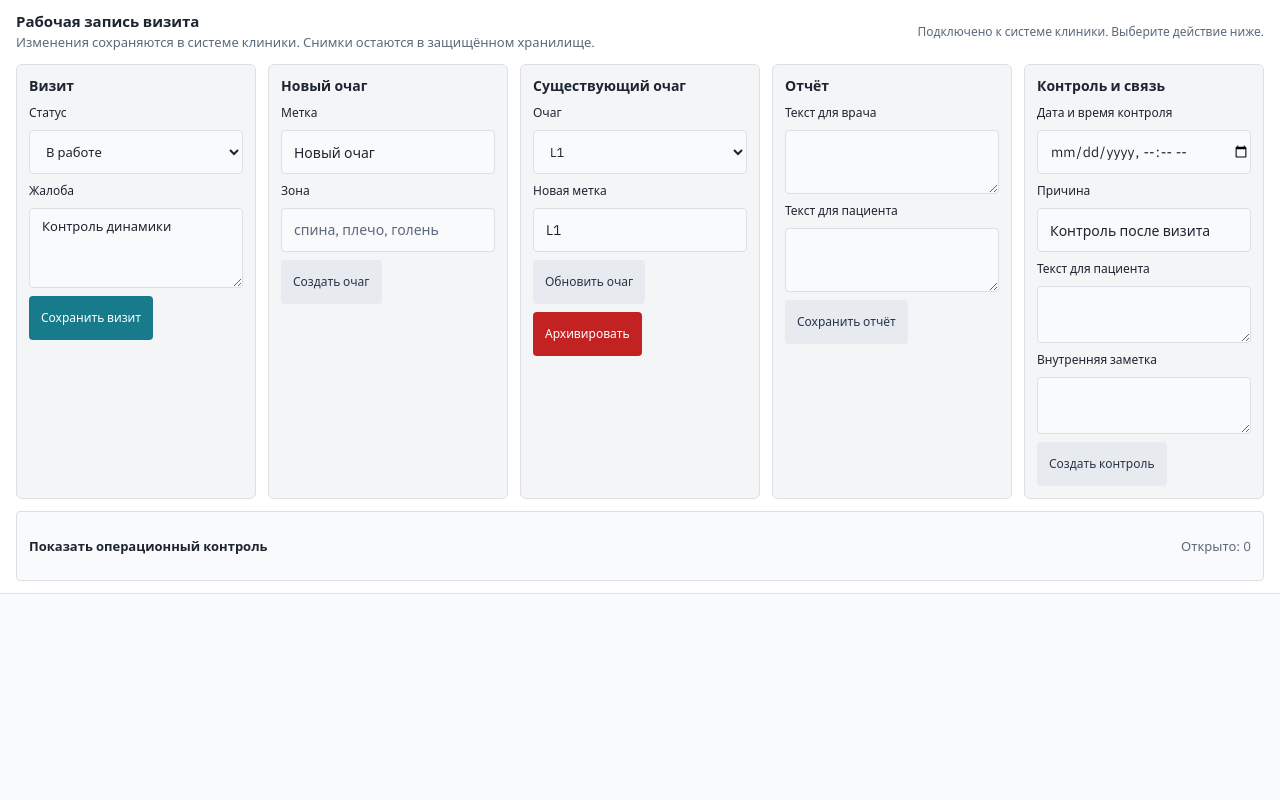
Test case: VisitWorkspaceLiveActions › saves visit, creates lesion, archives lesion, and saves report with bearer token
This screenshot has width=1280, height=800.
Click the button "Сохранить визит": (91, 318) [29,296,153,340]
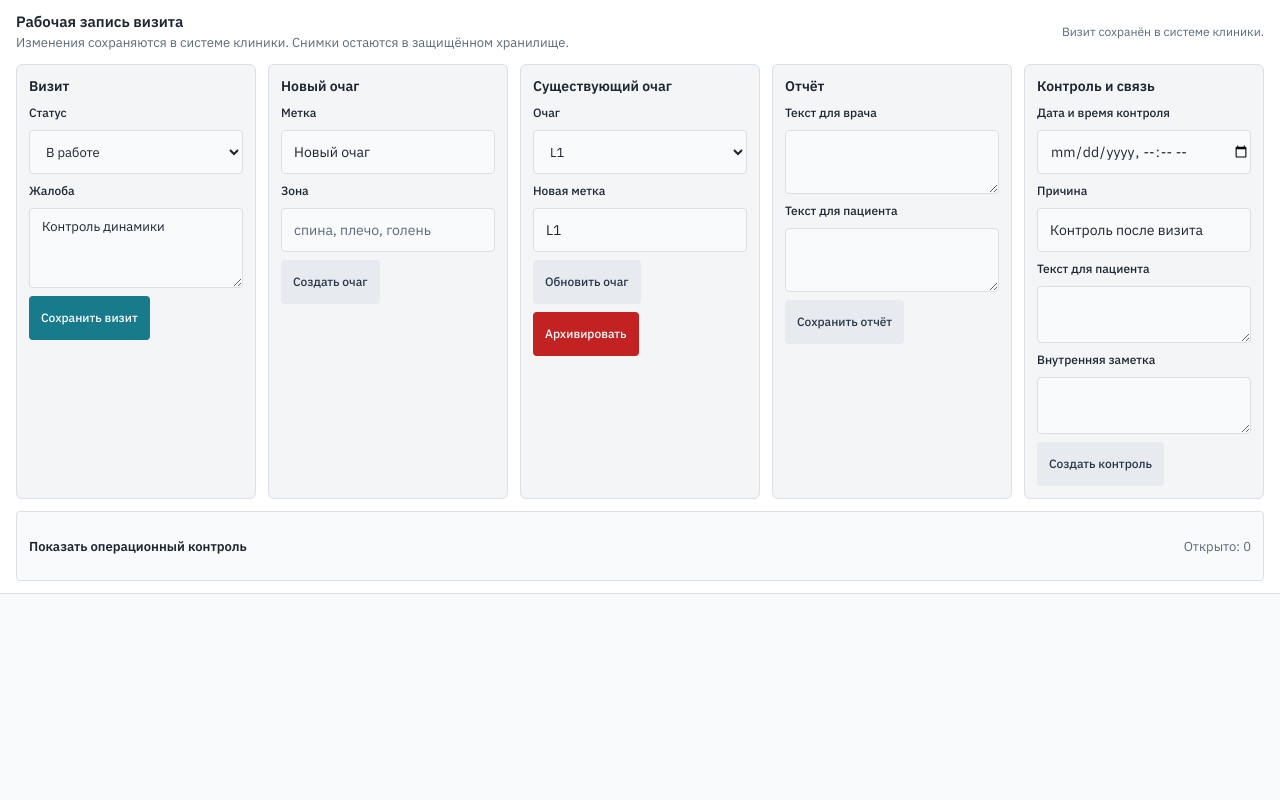
Expected: the text "Визит сохранён в системе клиники." is shown, [1062,23,1264,41]
Click the button "Создать очаг": (330, 282) [281,260,380,304]
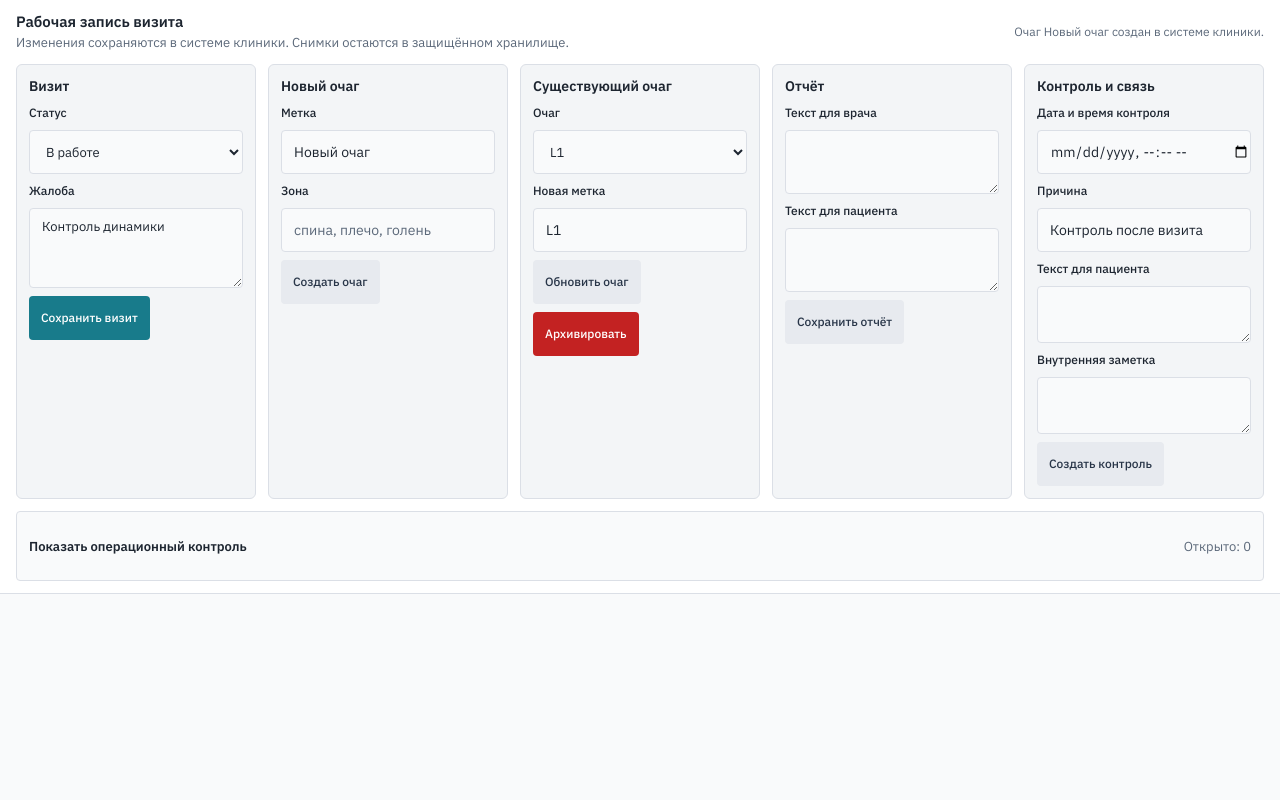
Expected: the text "Очаг Новый очаг создан в системе клиники." is shown, [1014,23,1264,41]
Click the button "Архивировать": (586, 334) [533,312,639,356]
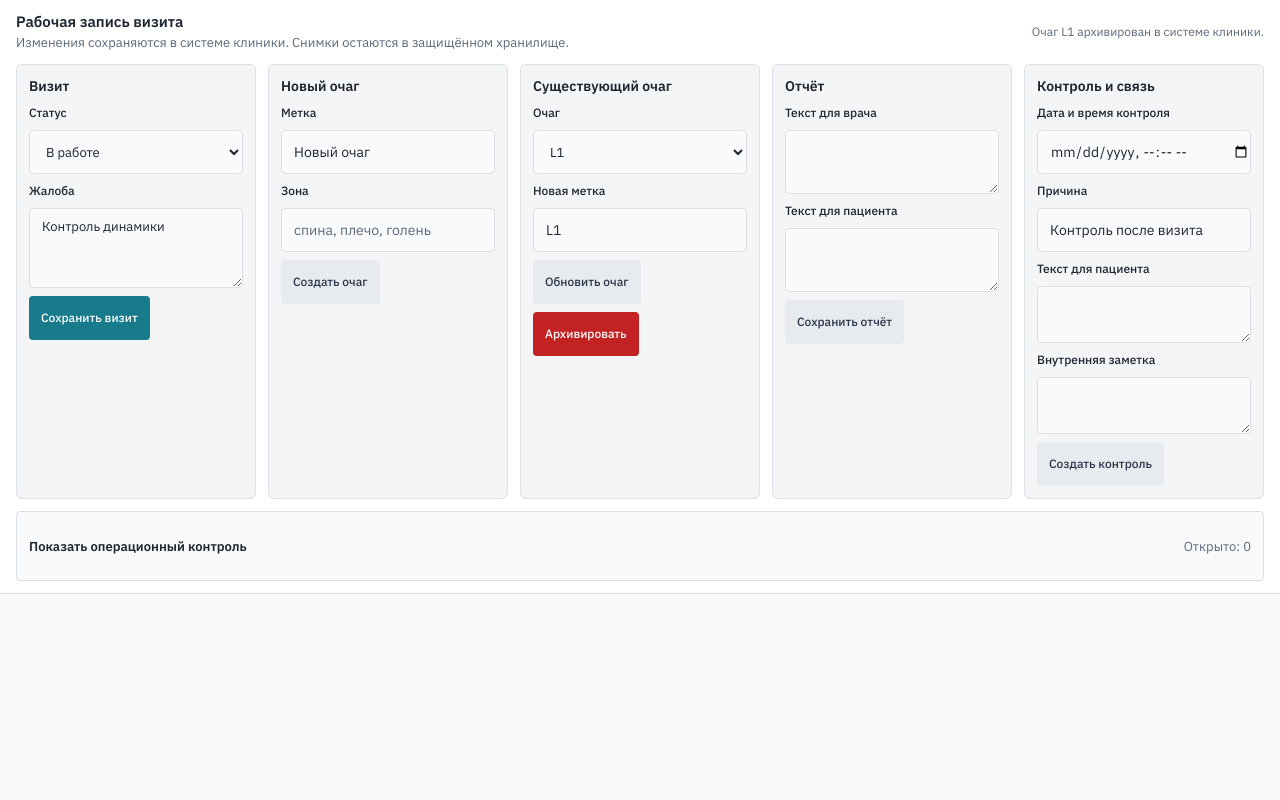
Expected: the text "Очаг L1 архивирован в системе клиники." is shown, [1032,23,1264,41]
In the text box with id "stage4h-patient-text": (892, 260) [785,228,999,292], type "Контроль у врача."
Click the button "Сохранить отчёт": (845, 322) [785,300,904,344]
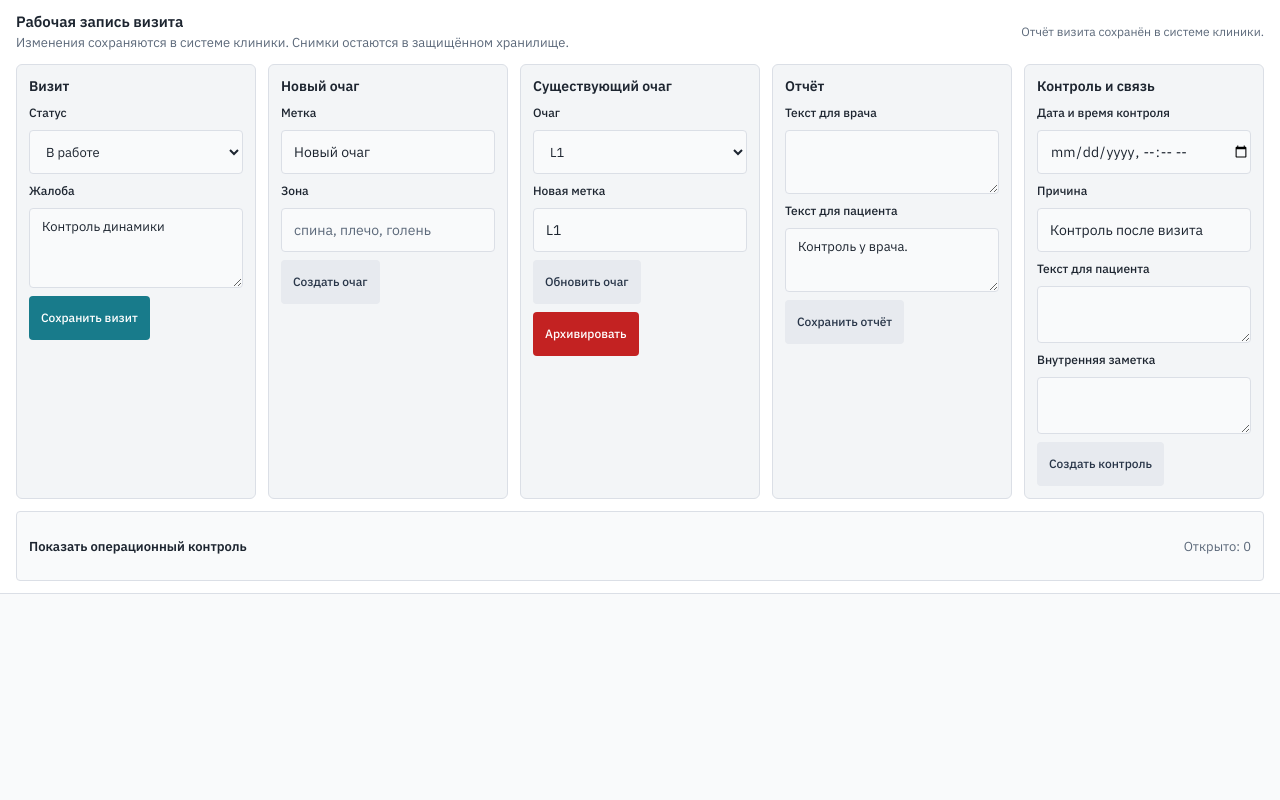
Expected: the text "Отчёт визита сохранён в системе клиники." is shown, [1021,23,1264,41]
In the field labelled "Дата и время контроля": (1144, 152) [1037,130,1251,174], type "2026-06-01T10:00"
In the text box with id "stage17-follow-up-summary": (1144, 315) [1037,286,1251,343], type "Напомним о контрольном осмотре."
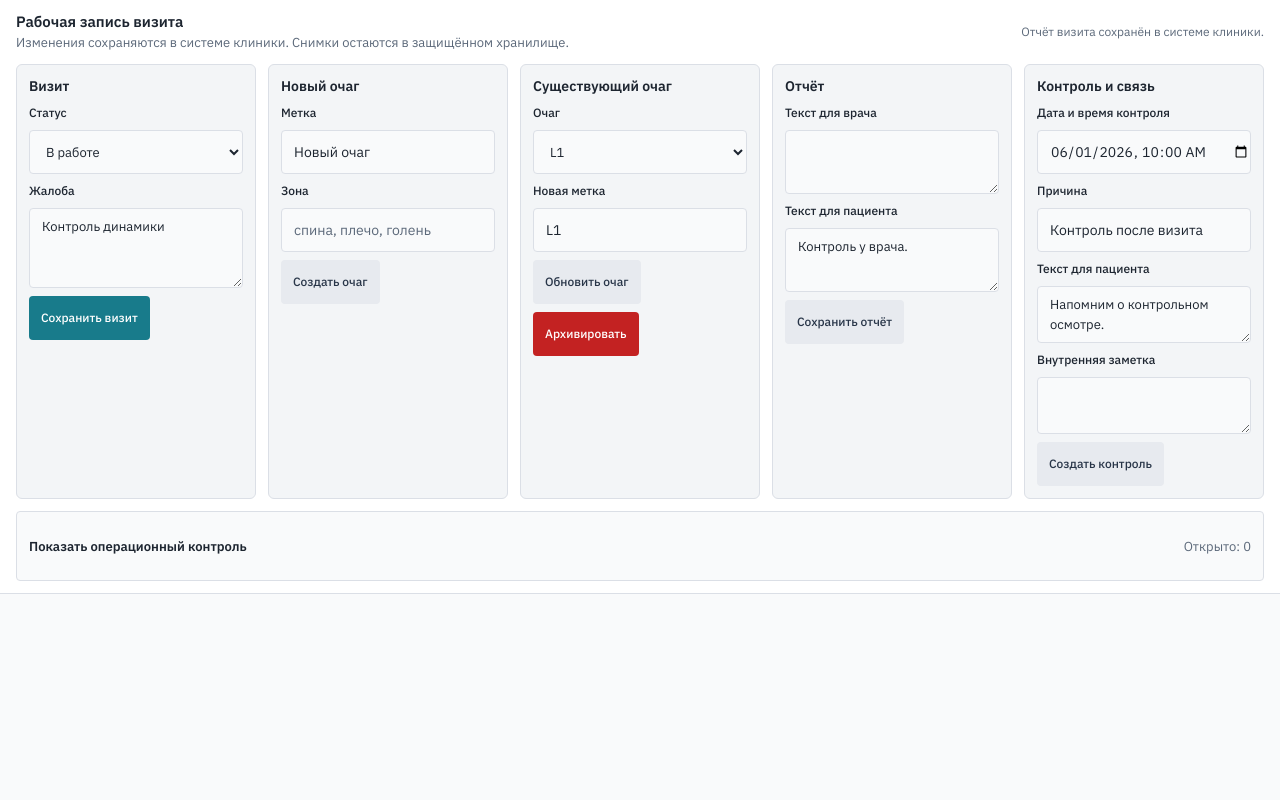
Click the button "Создать контроль": (1100, 464) [1037,442,1164,486]
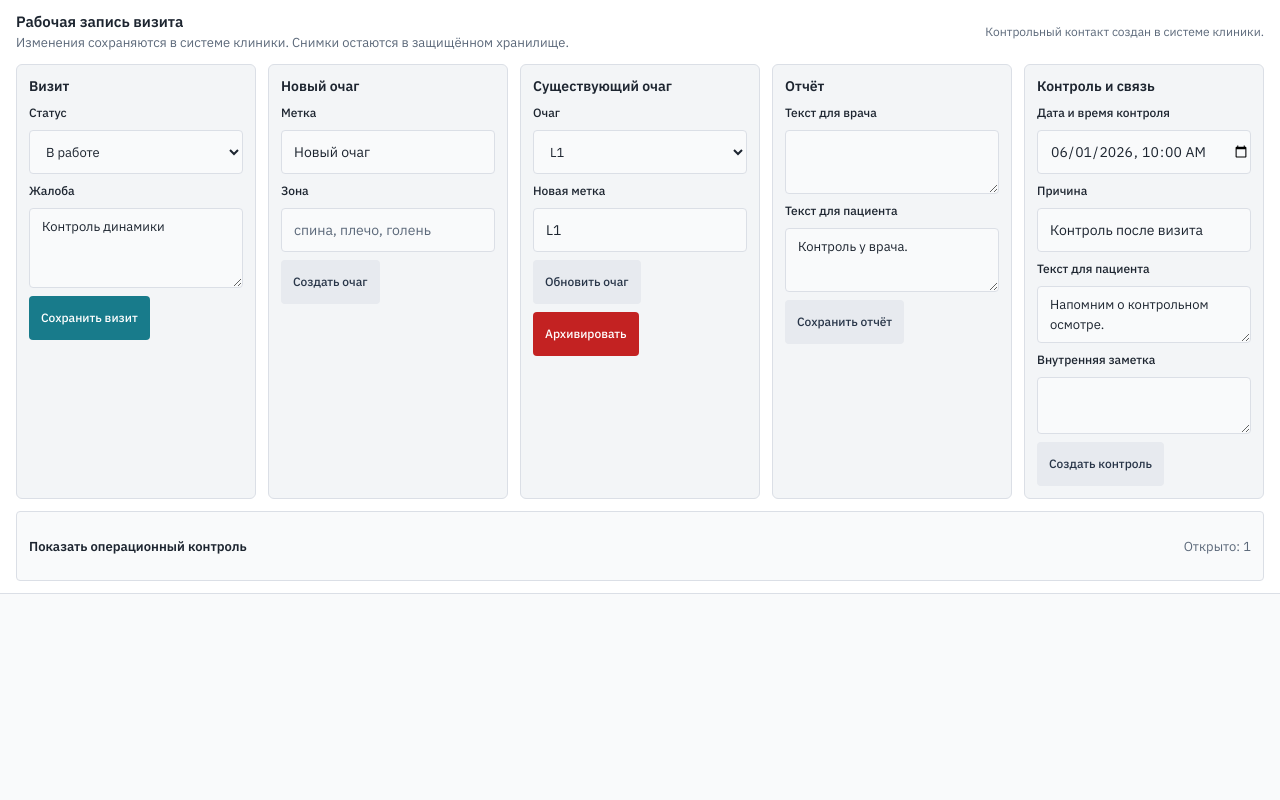
Expected: the text "Контрольный контакт создан в системе клиники." is shown, [985,23,1264,41]
